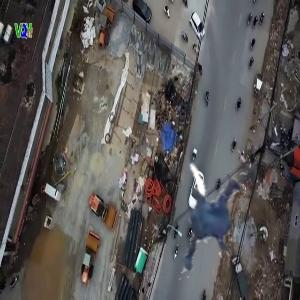drone: (139, 143, 279, 283)
